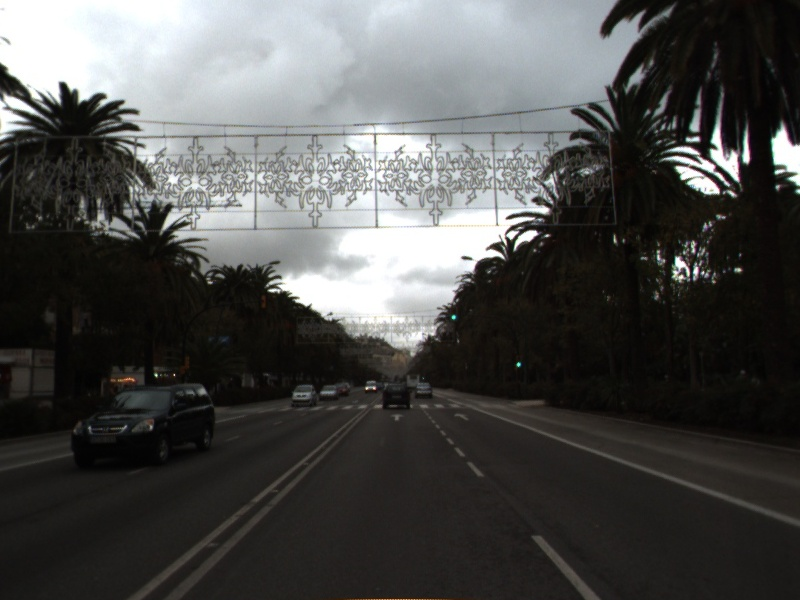STRAIGHT: (452, 411, 472, 423), (388, 411, 407, 423)
